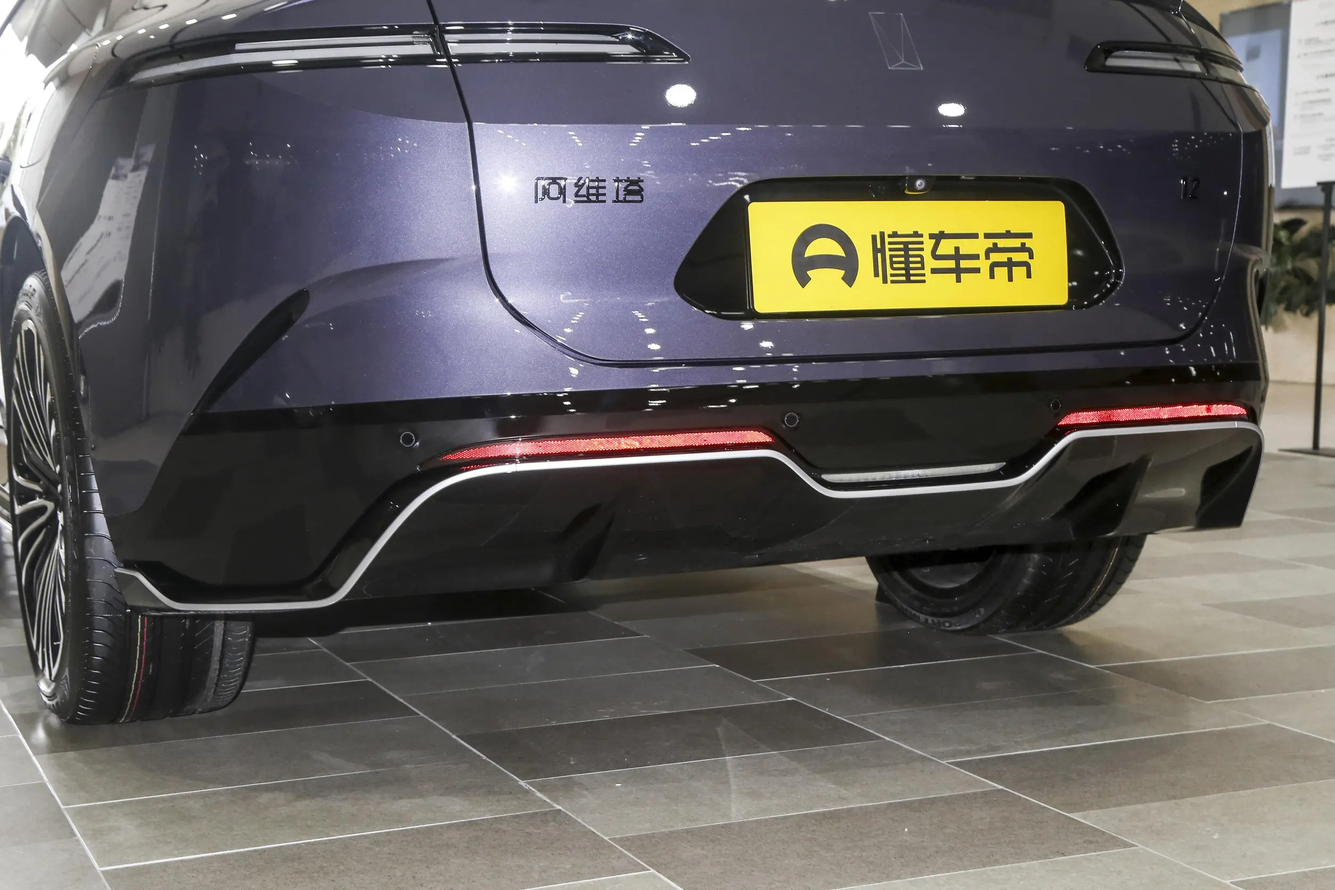AVATR: (869, 13, 923, 70)
